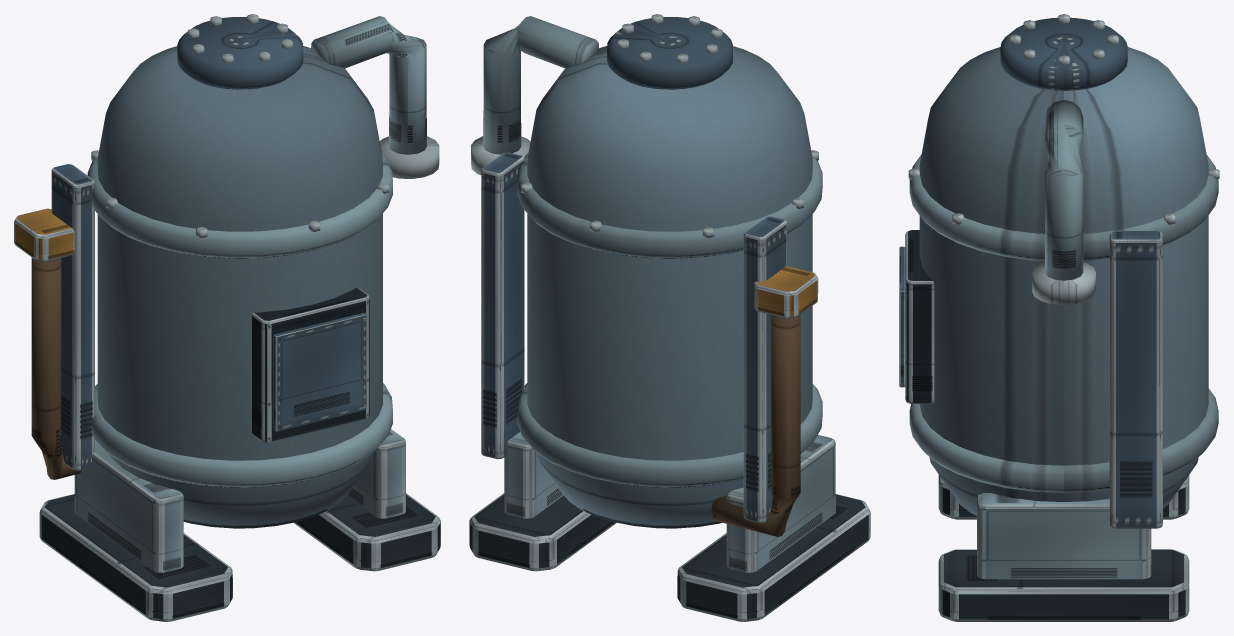
Rendered from V46_PressureVessel.fbx.
The picture shows the model from 3 angles, left to right: view 1: azimuth 30°, elevation 25°; view 2: azimuth 150°, elevation 25°; view 3: azimuth 270°, elevation 25°; orthographic projection.
Visible parts, largest first — view 1: V46_PressureVessel; view 2: V46_PressureVessel; view 3: V46_PressureVessel.
Part boxes in pixels (x1,y1,x2,y2): V46_PressureVessel: (14,14,440,621); V46_PressureVessel: (469,14,870,621); V46_PressureVessel: (899,14,1219,621).
Bounding box in the file's own units: 2.04 × 2.68 × 1.51.
